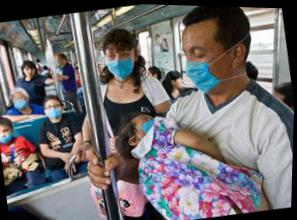NONE: (25, 65, 37, 78), (173, 75, 185, 87)
OK: (179, 37, 237, 94), (102, 40, 143, 81), (46, 103, 64, 122), (11, 95, 30, 112)
WRONG: (1, 125, 16, 145)
